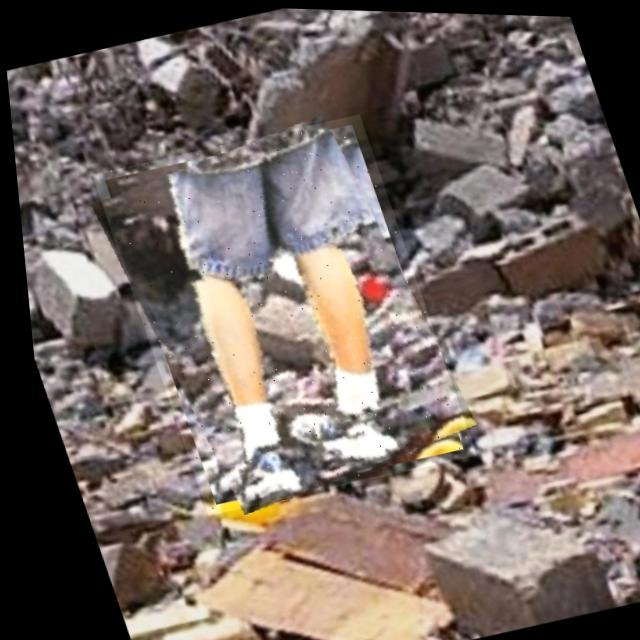Person in Rubble: (83, 105, 473, 521)
